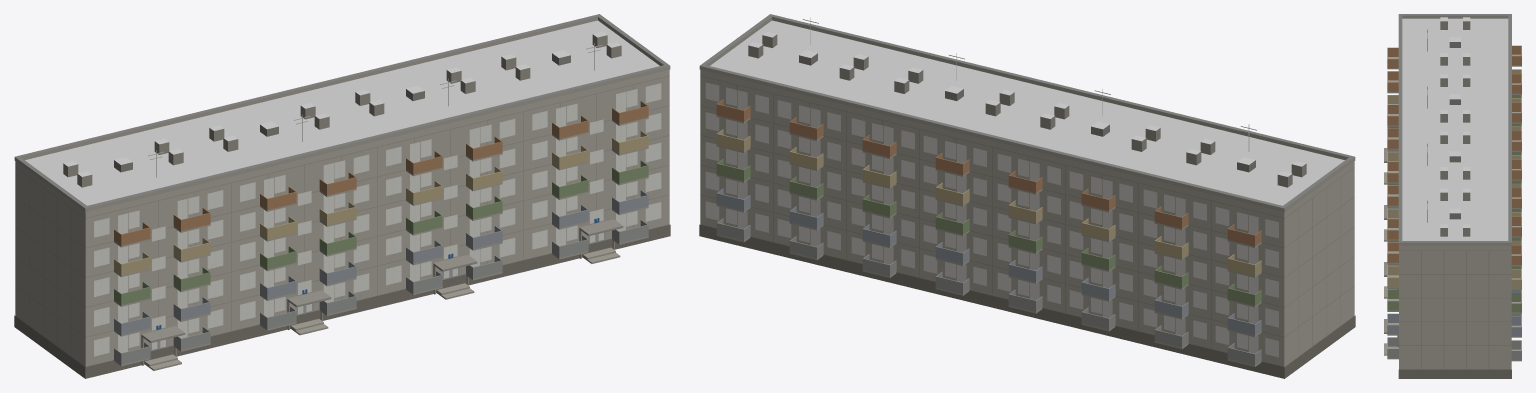
Rendered from blok-p4.pbr.glb.
3 renders of one model, left to right at view 1: azimuth 30°, elevation 25°; view 2: azimuth 150°, elevation 25°; view 3: azimuth 270°, elevation 25°, orthographic. The views are drawn at different scales.
Parts seen in each view (by area): view 1: blok-p4; view 2: blok-p4; view 3: blok-p4.
Part boxes in pixels (box(x1,y1,x2,y2)): blok-p4: box(14, 14, 670, 378); blok-p4: box(699, 14, 1355, 378); blok-p4: box(1384, 14, 1521, 378).
Bounding box in the file's own units: 57.72 × 18.3 × 14.7.
